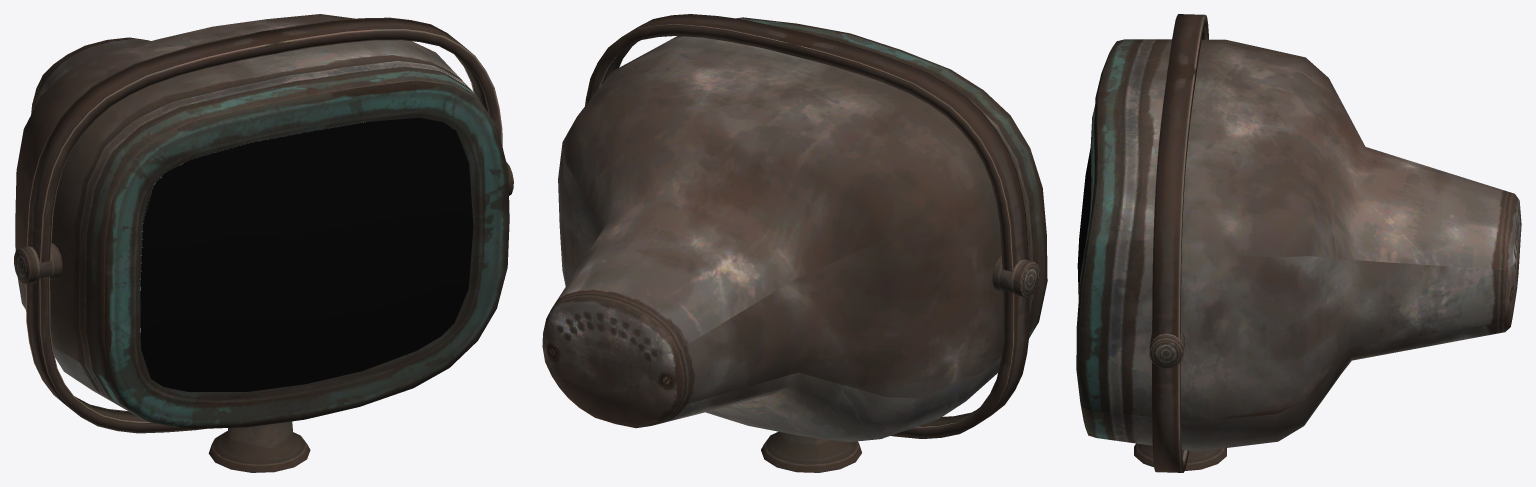
Rendered from tele.glb.
3 views of the same model, side by side, from view 1: azimuth 30°, elevation 25°; view 2: azimuth 150°, elevation 25°; view 3: azimuth 270°, elevation 25° (orthographic). The views are drawn at different scales.
Visible parts, largest first — view 1: Object_2; view 2: Object_2; view 3: Object_2.
Part boxes in pixels (x1=…): Object_2: x1=14, y1=14, x2=513, y2=472; Object_2: x1=542, y1=14, x2=1047, y2=472; Object_2: x1=1076, y1=14, x2=1521, y2=472.
Size of the model in its own units: 54.98 by 46.19 by 48.36.
Materials: 5 (2 with a texture image).
